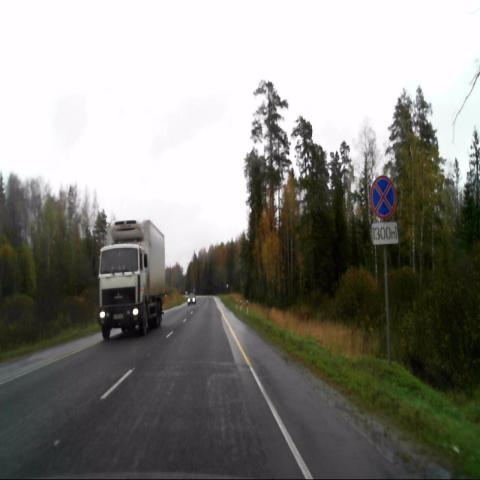3_27: (370, 175, 397, 220)
